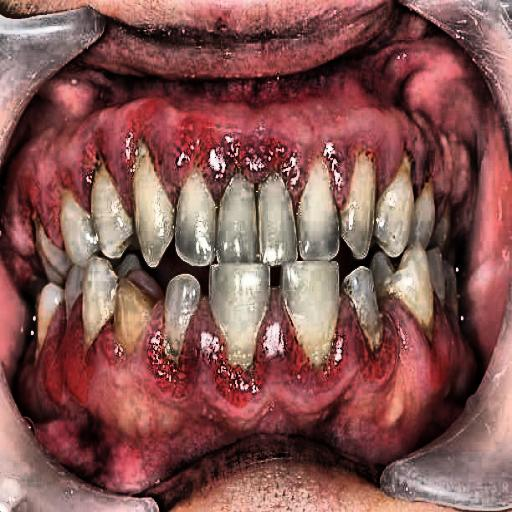Gingivitis: (12, 94, 506, 192), (153, 319, 482, 458), (26, 310, 146, 447)
